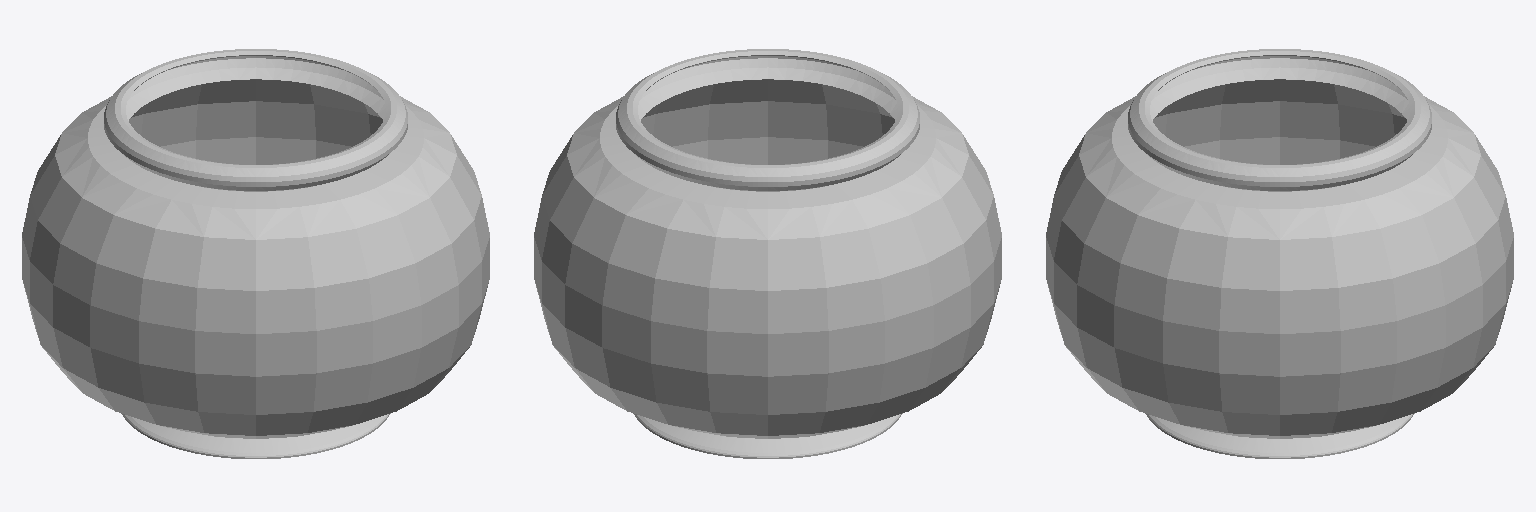
The model's file is Goldfish_final_final_file_.obj.
3 views of the same model, side by side, from view 1: azimuth 30°, elevation 25°; view 2: azimuth 150°, elevation 25°; view 3: azimuth 270°, elevation 25° (orthographic).
Parts seen in each view (by area): view 1: nurbsToPoly1; view 2: nurbsToPoly1; view 3: nurbsToPoly1.
Part boxes in pixels (x1,y1,x2,y2): nurbsToPoly1: (22, 49, 489, 458); nurbsToPoly1: (534, 49, 1001, 458); nurbsToPoly1: (1046, 49, 1513, 458).
Size of the model in its own units: 11.09 by 7.73 by 11.09.